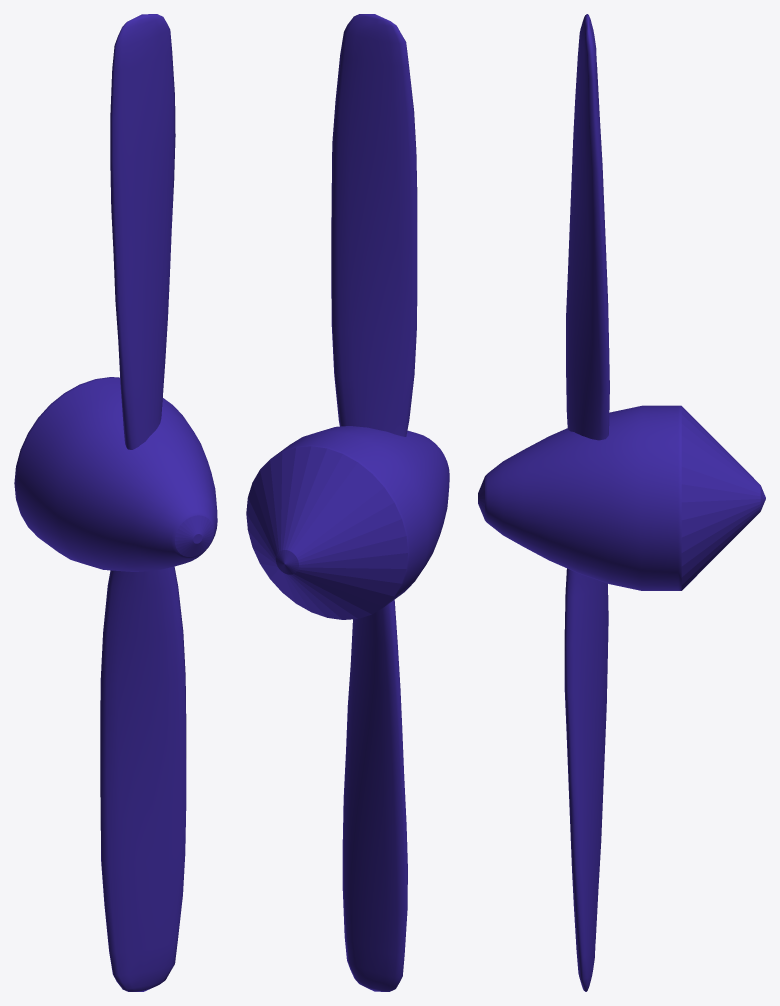
File: PropellerBLUE.fbx
3 renders of one model, left to right at view 1: azimuth 30°, elevation 25°; view 2: azimuth 150°, elevation 25°; view 3: azimuth 270°, elevation 25°, orthographic.
Parts seen in each view (by area): view 1: Sphere; view 2: Sphere; view 3: Sphere.
Part boxes in pixels (x1,y1,x2,y2): Sphere: (14,14,217,991); Sphere: (246,14,449,991); Sphere: (478,14,765,991).
Bounding box in the file's own units: 161 × 933 × 251.
